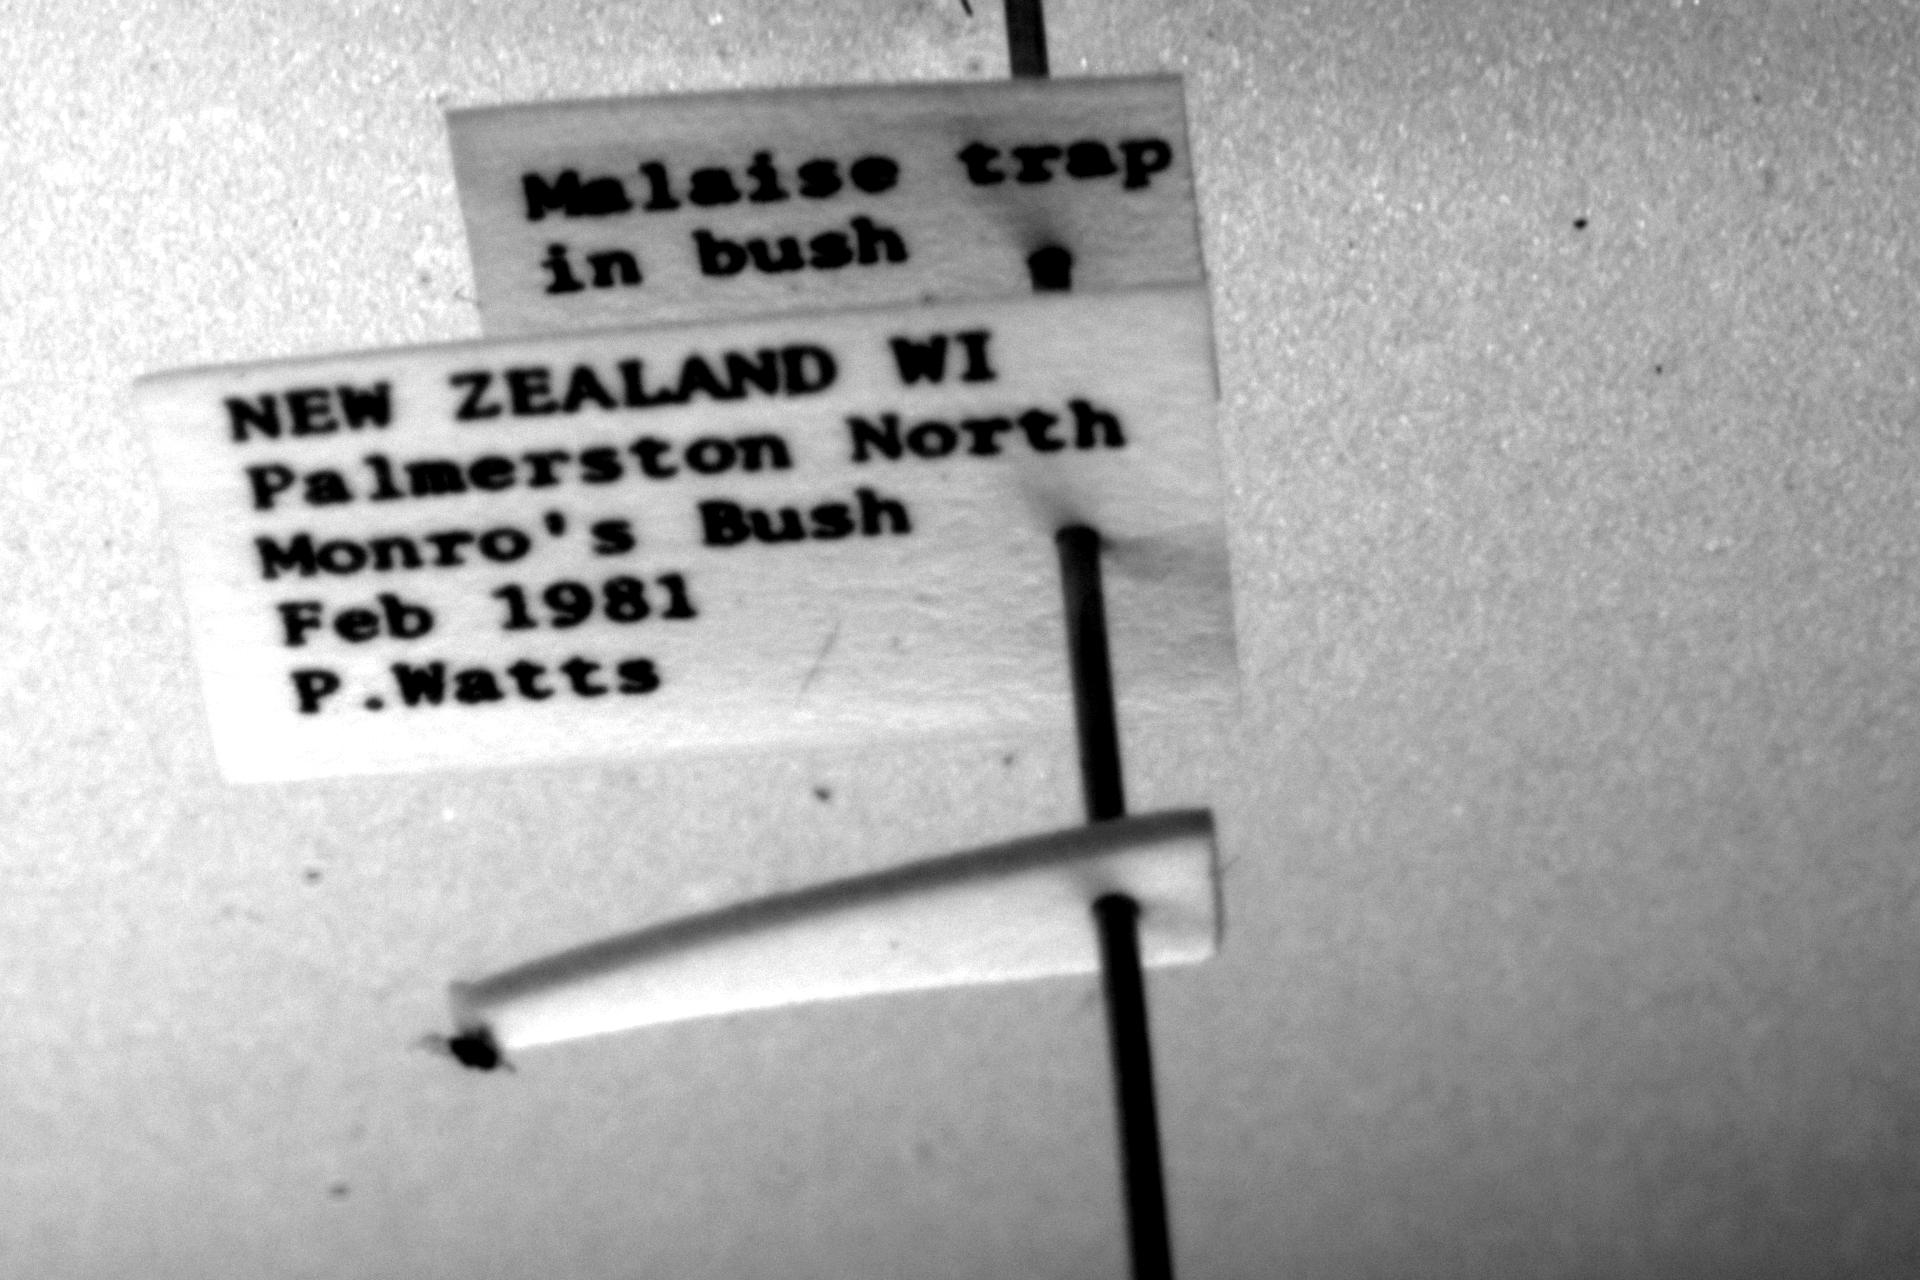typed_label: (139, 289, 1237, 780), (446, 74, 1204, 337)
